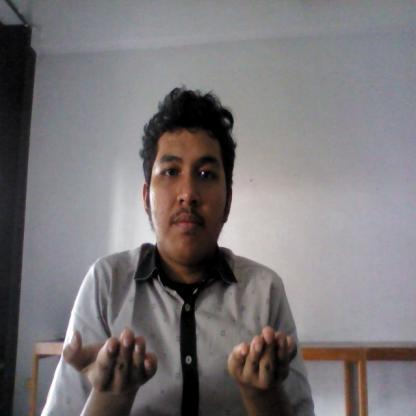Apa: (63, 324, 302, 416)
